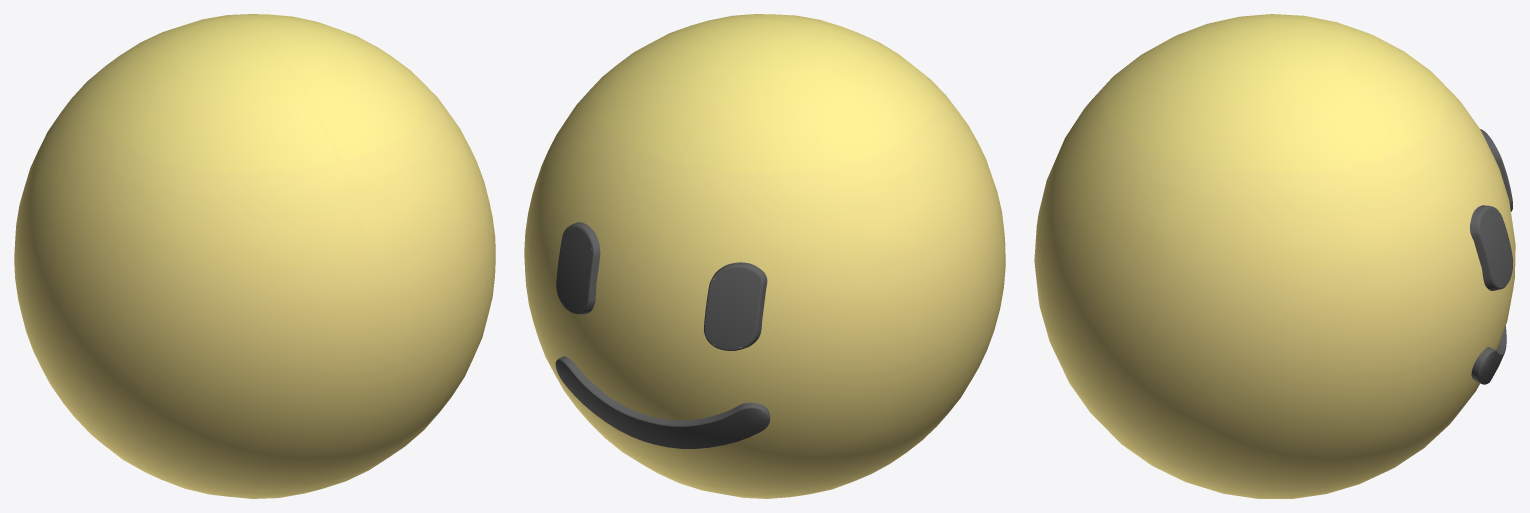
The model's file is SmilingFace.gltf.
The picture shows the model from 3 angles, left to right: view 1: azimuth 30°, elevation 25°; view 2: azimuth 150°, elevation 25°; view 3: azimuth 270°, elevation 25°; orthographic projection.
Parts seen in each view (by area): view 1: polySurface168; view 2: polySurface168; view 3: polySurface168.
Part boxes in pixels (x1=…): polySurface168: x1=14, y1=14, x2=495, y2=498; polySurface168: x1=524, y1=14, x2=1005, y2=498; polySurface168: x1=1034, y1=14, x2=1515, y2=498.
Bounding box in the file's own units: 162 × 164 × 162.
1 material, 1 textured.
